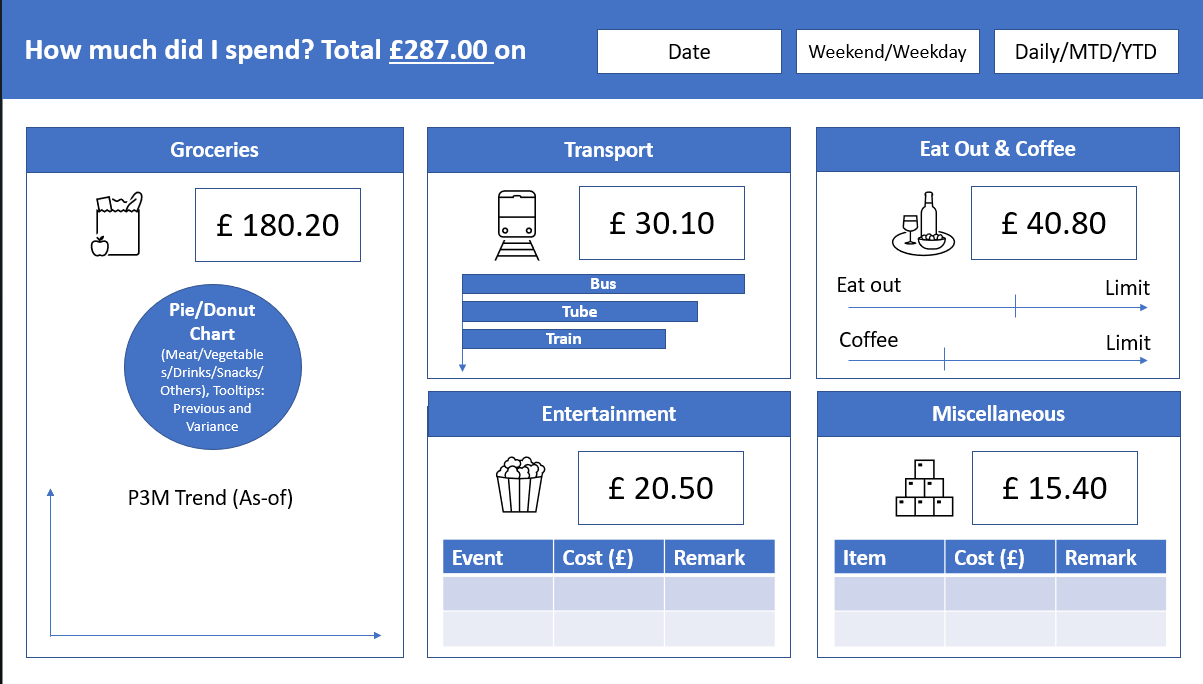

The page's visual inventory and layout, read from the dashboard file:
{"tool":"powerbi","page":{"name":"v2 (main)","canvas":[1280,720],"ordinal":1},"visuals":[{"type":"shape","box":[881.3,181.2,377.7,260.4],"z":0},{"type":"shape","box":[20.7,21.8,416.5,679.3],"z":1000},{"type":"shape","box":[1078,21.1,180,140.2],"z":2000,"group":"g1"},{"type":"shape","box":[466.4,20.1,180.3,141.2],"z":3000,"group":"g4"},{"type":"shape","box":[466.4,441.6,386.3,260.4],"z":4000},{"type":"shape","title":"Groceries","box":[487.4,22,143.1,37.2],"z":5000,"group":"g4"},{"type":"shape","box":[881,21.3,180,141],"z":6000,"group":"g2"},{"type":"card","fields":{"Values":["Groceries Daily.Total Amount (Groceries) Card"]},"box":[487.4,64.5,143.1,37.2],"z":7000,"group":"g4"},{"type":"shape","box":[672.4,20.1,180,141.2],"z":8000,"group":"g3"},{"type":"card","fields":{"Values":["Groceries Daily.Total Amount (Groceries) Previous Card"]},"box":[487.4,100.8,143.1,28.6],"z":9000,"group":"g4"},{"type":"card","fields":{"Values":["Groceries Daily.Total Amount (Groceries) Arrow"]},"box":[519.9,127.5,78.2,29.6],"z":10000,"group":"g4"},{"type":"shape","box":[21,20.1,415.9,42.9],"z":11000},{"type":"card","fields":{"Values":["Date Selection.Total Amount Card"]},"box":[132.6,212.7,187.9,50.6],"z":12000},{"type":"slicer","fields":{"Values":["Date Dim.Month Year Name"]},"box":[21,62,111.6,39.1],"z":13000},{"type":"shape","title":"Groceries","box":[693.3,22,143.1,37.2],"z":14000,"group":"g3"},{"type":"donutChart","fields":{"Y":["Groceries Daily.Total Amount (Groceries)","Eat Out & Coffee Daily.Total Amount (EOC)","Miscellaneous Daily.Total Amount (Miscellaneous)","Transport Daily.Total Amount (Transport)"]},"box":[21,101.4,415.4,322.7],"z":15000},{"type":"shape","title":"Groceries","box":[1096,20.1,143.1,37.2],"z":16000,"group":"g1"},{"type":"card","fields":{"Values":["Date Selection.Total Amount Previous Card"]},"box":[138.8,261.3,175.5,28.6],"z":17000},{"type":"shape","title":"Groceries","box":[897.7,20.1,143.1,37.2],"z":18000,"group":"g2"},{"type":"card","fields":{"Values":["Date Selection.Total Amount Arrow"]},"box":[187.5,291.9,78.2,29.6],"z":19000},{"type":"card","fields":{"Values":["Eat Out & Coffee Daily.Total Amount (EOC) Card"]},"box":[691.9,64.5,143.1,37.2],"z":20000,"group":"g3"},{"type":"card","fields":{"Values":["Eat Out & Coffee Daily.Total Amount (EOC) Previous Card"]},"box":[691.9,100.8,143.1,28.6],"z":21000,"group":"g3"},{"type":"slicer","fields":{"Values":["Date Selection.Type"]},"box":[313.8,64.9,139.3,38.2],"z":22000},{"type":"card","fields":{"Values":["Eat Out & Coffee Daily.Total Amount (EOC) Arrow"]},"box":[724.3,127.5,78.2,29.6],"z":23000,"group":"g3"},{"type":"card","fields":{"Values":["Miscellaneous Daily.Total Amount (Miscellaneous) Card"]},"box":[1096.5,62.6,143.1,37.2],"z":24000,"group":"g1"},{"type":"card","fields":{"Values":["Miscellaneous Daily.Total Amount (Miscellaneous) Previous Card"]},"box":[1096.5,98.9,143.1,28.6],"z":25000,"group":"g1"},{"type":"card","fields":{"Values":["Miscellaneous Daily.Total Amount (Miscellaneous) Arrow"]},"box":[1128.9,125.6,78.2,29.6],"z":26000,"group":"g1"},{"type":"columnChart","fields":{"Category":["Groceries Daily.Category"],"Y":["Groceries Daily.Total Amount (Groceries)"]},"box":[475.9,189.8,376.8,259.4],"z":27000},{"type":"card","fields":{"Values":["Transport Daily.Total Amount (Transport) Card"]},"box":[898.1,62.6,143.1,37.2],"z":28000,"group":"g2"},{"type":"tableEx","fields":{"Values":["Miscellaneous Daily.Item","Miscellaneous Daily.Essential/Non-essential","Miscellaneous Daily.Cost (£)","Miscellaneous Daily.Remark"]},"box":[881.3,457.8,377.7,236.5],"z":29000},{"type":"card","fields":{"Values":["Transport Daily.Total Amount (Transport) Previous Card"]},"box":[898.1,98.9,143.1,28.6],"z":30000,"group":"g2"},{"type":"card","fields":{"Values":["Transport Daily.Total Amount (Transport) Arrow"]},"box":[930.6,125.6,78.2,29.6],"z":31000,"group":"g2"},{"type":"clusteredBarChart","fields":{"Category":["Transport Daily.Transportation Type"],"Y":["Transport Daily.Total Amount (Transport)"]},"box":[891.8,206,357.7,211.7],"z":32000},{"type":"lineChart","fields":{"Y":["Date Selection.Total Amount"],"Category":["Date Dim.Date"]},"box":[35,418,387,259],"z":33000},{"type":"shape","box":[547,492.2,60,60],"z":34000},{"type":"image","box":[554.2,496.9,45.8,50.6],"z":35000},{"type":"shape","title":"Groceries","box":[638.5,479.9,63,37.2],"z":36000},{"type":"card","fields":{"Values":["Eat Out & Coffee Daily.Total Amount (EOC) Card"]},"box":[627,506,71.5,37.2],"z":37000},{"type":"card","fields":{"Values":["Eat Out & Coffee Daily.Total Amount (EOC) Previous Card"]},"box":[624.3,533,143.3,28.7],"z":38000},{"type":"card","fields":{"Values":["Eat Out & Coffee Daily.Total Amount (EOC) Arrow"]},"box":[690.9,510.8,78.2,29.6],"z":39000},{"type":"shape","box":[549.4,585.2,60,60],"z":40000},{"type":"shape","title":"Groceries","box":[640.8,572.9,63,37.2],"z":42000},{"type":"card","fields":{"Values":["Eat Out & Coffee Daily.Total Amount (EOC) Card"]},"box":[628.9,600.1,71.5,37.2],"z":43000},{"type":"card","fields":{"Values":["Eat Out & Coffee Daily.Total Amount (EOC) Previous Card"]},"box":[625.2,626.1,143.3,28.7],"z":44000},{"type":"card","fields":{"Values":["Eat Out & Coffee Daily.Total Amount (EOC) Arrow"]},"box":[692.8,604.9,78.2,29.6],"z":45000},{"type":"image","box":[556.2,590,46,51],"z":45001},{"type":"group","id":"g1","title":"Group 1","box":[1078,20.1,180,141.2],"z":45002},{"type":"group","id":"g2","title":"Group 2","box":[881,20.1,180,142.2],"z":45003},{"type":"group","id":"g3","title":"Group 3","box":[672.4,20.1,180,141.2],"z":45004},{"type":"group","id":"g4","title":"Group 4","box":[466.4,20.1,180.3,141.2],"z":45005}]}

Visuals, with their boxes in screenshot pixels (x1, y1, x2, y2), scaled from the page's 1280x720 canvas onto the 1203x684 screenshot:
shape: x1=828, y1=172, x2=1183, y2=420
shape: x1=19, y1=21, x2=411, y2=666
shape: x1=1013, y1=20, x2=1182, y2=153
shape: x1=438, y1=19, x2=608, y2=153
shape: x1=438, y1=420, x2=801, y2=667
"Groceries" shape: x1=458, y1=21, x2=593, y2=56
shape: x1=828, y1=20, x2=997, y2=154
card - Groceries Daily.Total Amount (Groceries) Card: x1=458, y1=61, x2=593, y2=97
shape: x1=632, y1=19, x2=801, y2=153
card - Groceries Daily.Total Amount (Groceries) Previous Card: x1=458, y1=96, x2=593, y2=123
card - Groceries Daily.Total Amount (Groceries) Arrow: x1=489, y1=121, x2=562, y2=149
shape: x1=20, y1=19, x2=411, y2=60
card - Date Selection.Total Amount Card: x1=125, y1=202, x2=301, y2=250
slicer - Date Dim.Month Year Name: x1=20, y1=59, x2=125, y2=96
"Groceries" shape: x1=652, y1=21, x2=786, y2=56
donutChart - Groceries Daily.Total Amount (Groceries) x Eat Out & Coffee Daily.Total Amount (EOC): x1=20, y1=96, x2=410, y2=403
"Groceries" shape: x1=1030, y1=19, x2=1165, y2=54
card - Date Selection.Total Amount Previous Card: x1=130, y1=248, x2=295, y2=275
"Groceries" shape: x1=844, y1=19, x2=978, y2=54
card - Date Selection.Total Amount Arrow: x1=176, y1=277, x2=250, y2=305
card - Eat Out & Coffee Daily.Total Amount (EOC) Card: x1=650, y1=61, x2=785, y2=97
card - Eat Out & Coffee Daily.Total Amount (EOC) Previous Card: x1=650, y1=96, x2=785, y2=123
slicer - Date Selection.Type: x1=295, y1=62, x2=426, y2=98
card - Eat Out & Coffee Daily.Total Amount (EOC) Arrow: x1=681, y1=121, x2=754, y2=149
card - Miscellaneous Daily.Total Amount (Miscellaneous) Card: x1=1031, y1=59, x2=1165, y2=95
card - Miscellaneous Daily.Total Amount (Miscellaneous) Previous Card: x1=1031, y1=94, x2=1165, y2=121
card - Miscellaneous Daily.Total Amount (Miscellaneous) Arrow: x1=1061, y1=119, x2=1134, y2=147
columnChart - Groceries Daily.Category x Groceries Daily.Total Amount (Groceries): x1=447, y1=180, x2=801, y2=427
card - Transport Daily.Total Amount (Transport) Card: x1=844, y1=59, x2=979, y2=95
tableEx - Miscellaneous Daily.Item x Miscellaneous Daily.Essential/Non-essential: x1=828, y1=435, x2=1183, y2=660
card - Transport Daily.Total Amount (Transport) Previous Card: x1=844, y1=94, x2=979, y2=121
card - Transport Daily.Total Amount (Transport) Arrow: x1=875, y1=119, x2=948, y2=147
clusteredBarChart - Transport Daily.Transportation Type x Transport Daily.Total Amount (Transport): x1=838, y1=196, x2=1174, y2=397
lineChart - Date Selection.Total Amount x Date Dim.Date: x1=33, y1=397, x2=397, y2=643
shape: x1=514, y1=468, x2=570, y2=525
image: x1=521, y1=472, x2=564, y2=520
"Groceries" shape: x1=600, y1=456, x2=659, y2=491
card - Eat Out & Coffee Daily.Total Amount (EOC) Card: x1=589, y1=481, x2=656, y2=516
card - Eat Out & Coffee Daily.Total Amount (EOC) Previous Card: x1=587, y1=506, x2=721, y2=534
card - Eat Out & Coffee Daily.Total Amount (EOC) Arrow: x1=649, y1=485, x2=723, y2=513
shape: x1=516, y1=556, x2=573, y2=613
"Groceries" shape: x1=602, y1=544, x2=661, y2=580
card - Eat Out & Coffee Daily.Total Amount (EOC) Card: x1=591, y1=570, x2=658, y2=605
card - Eat Out & Coffee Daily.Total Amount (EOC) Previous Card: x1=588, y1=595, x2=722, y2=622
card - Eat Out & Coffee Daily.Total Amount (EOC) Arrow: x1=651, y1=575, x2=725, y2=603
image: x1=523, y1=560, x2=566, y2=609
"Group 1" group: x1=1013, y1=19, x2=1182, y2=153
"Group 2" group: x1=828, y1=19, x2=997, y2=154
"Group 3" group: x1=632, y1=19, x2=801, y2=153
"Group 4" group: x1=438, y1=19, x2=608, y2=153
